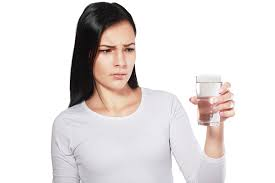glass of water: (193, 73, 226, 127)
